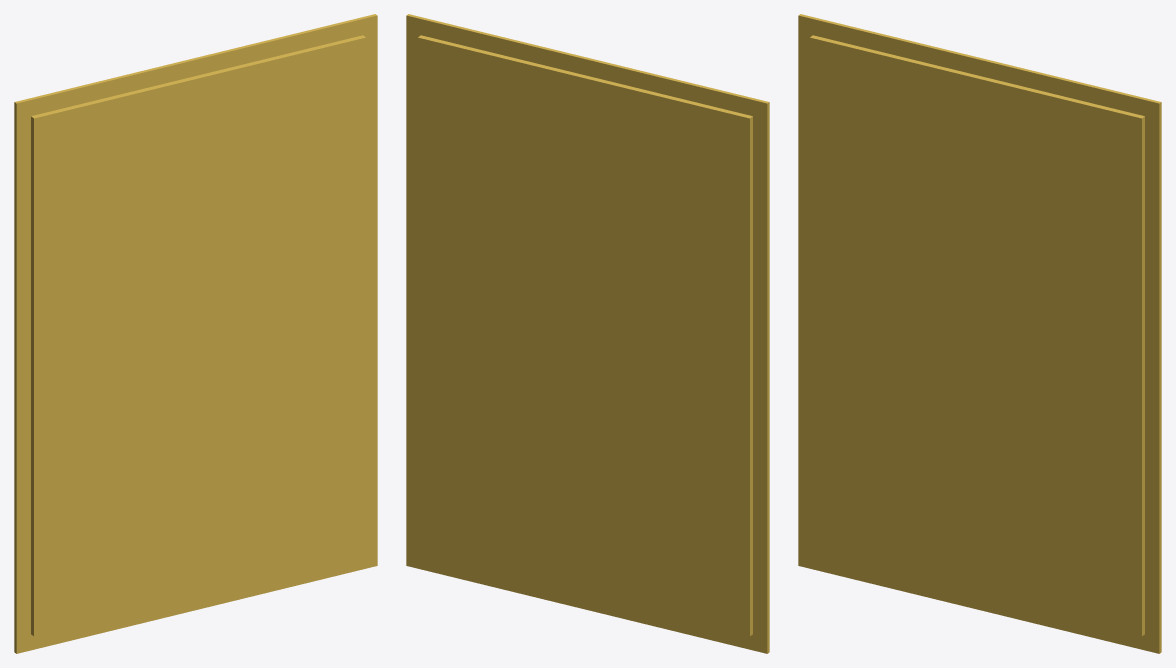
The model's file is original-107.obj.
3 views of the same model, side by side, from view 1: azimuth 30°, elevation 25°; view 2: azimuth 150°, elevation 25°; view 3: azimuth 330°, elevation 25° (orthographic).
Visible parts, largest first — view 1: Door_Panel2/Door_Panel12/mesh139/mesh139-geometry#mesh139-geomet; view 2: Door_Panel2/Door_Panel12/mesh139/mesh139-geometry#mesh139-geomet; view 3: Door_Panel2/Door_Panel12/mesh139/mesh139-geometry#mesh139-geomet.
Boxes of the visible parts, bbox=[...] form: Door_Panel2/Door_Panel12/mesh139/mesh139-geometry#mesh139-geomet: bbox=[14, 14, 377, 653]; Door_Panel2/Door_Panel12/mesh139/mesh139-geometry#mesh139-geomet: bbox=[406, 14, 769, 653]; Door_Panel2/Door_Panel12/mesh139/mesh139-geometry#mesh139-geomet: bbox=[798, 14, 1161, 653].
Size of the model in its own units: 0.423 by 0.6164 by 0.0169.
